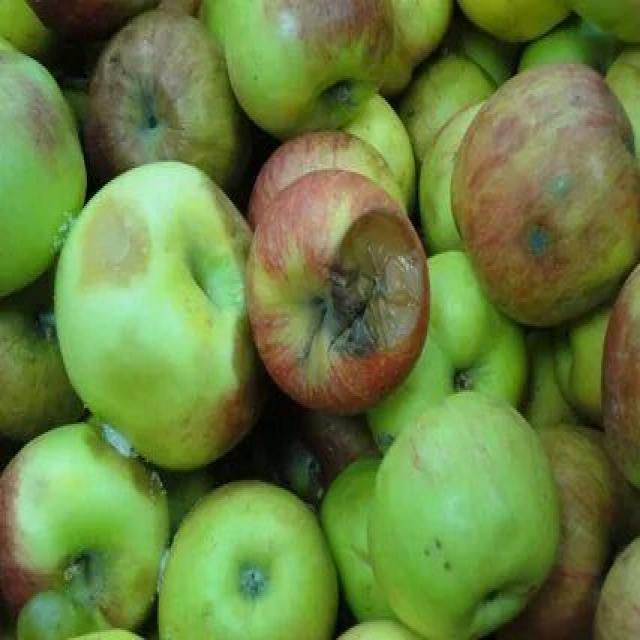Apple: (50, 158, 265, 460), (452, 58, 638, 320), (247, 168, 432, 417), (197, 0, 397, 133), (85, 2, 238, 165)
